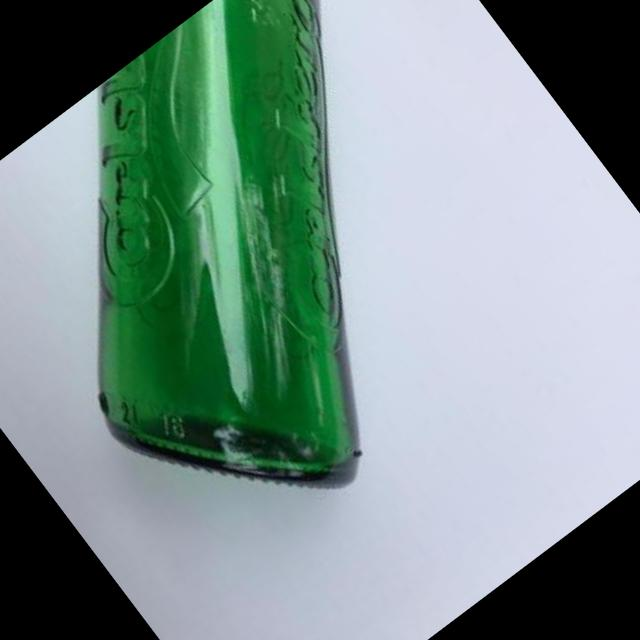BotolKaca: (0, 0, 612, 585)
